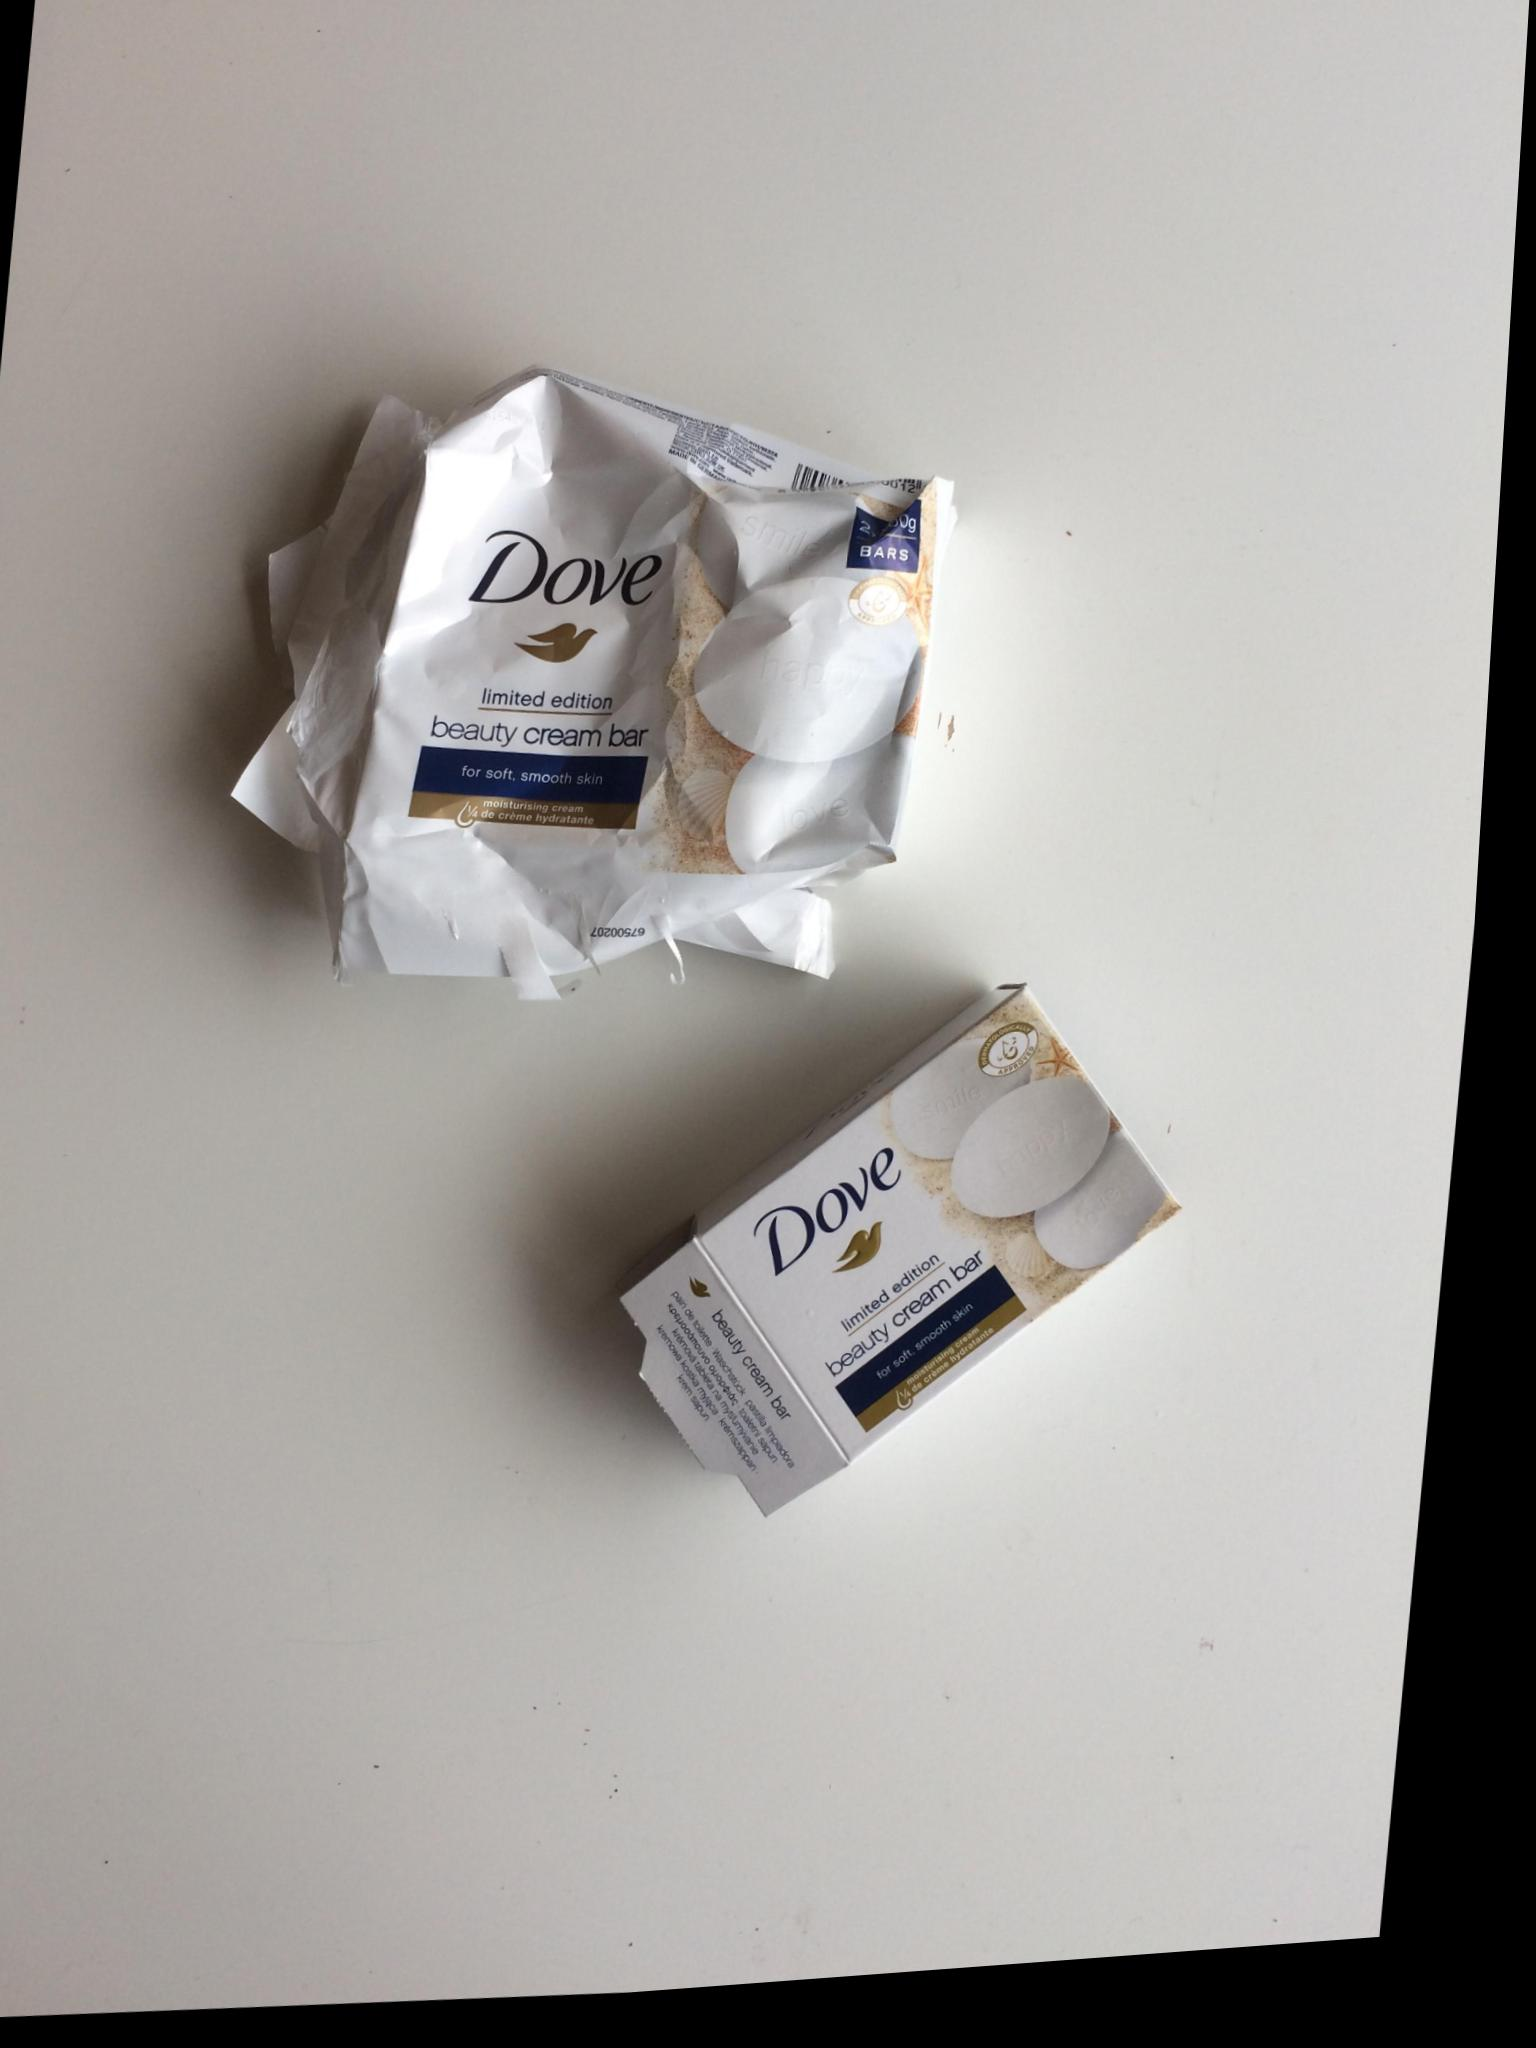cardboard: (236, 373, 950, 998), (623, 984, 1173, 1509)
